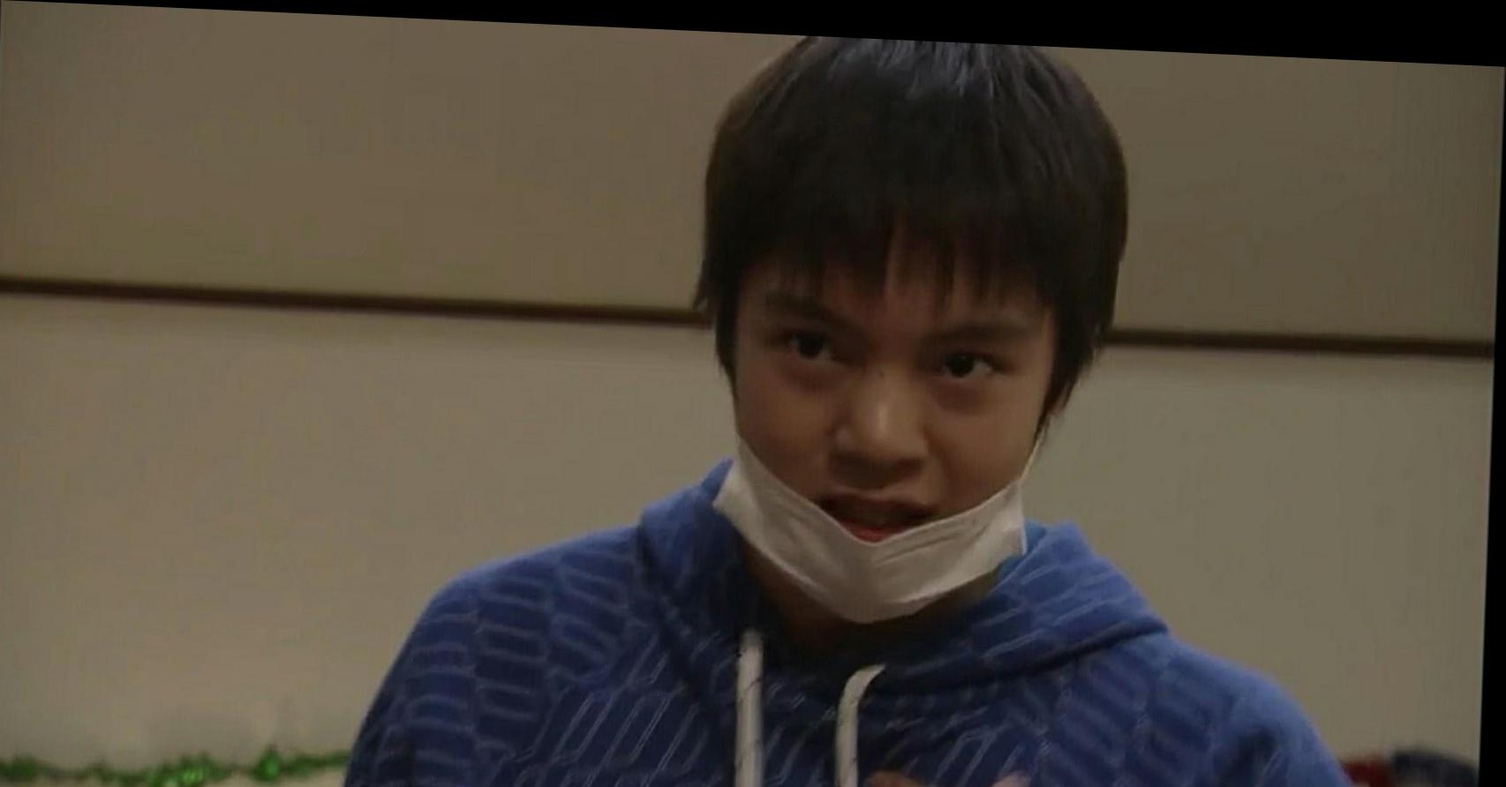WRONG: (722, 262, 1063, 604)
